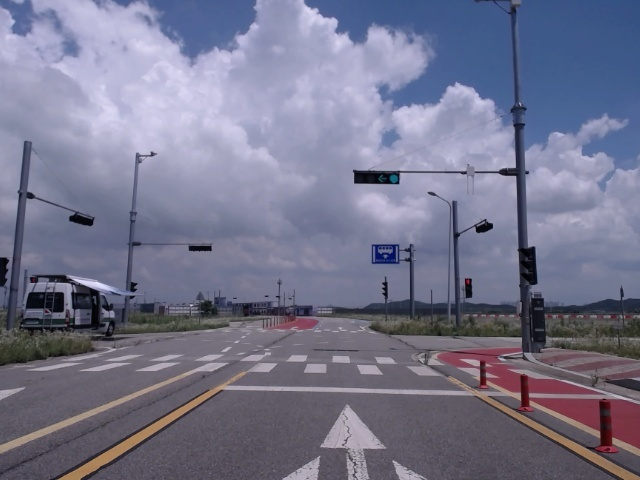all_green_4: (351, 167, 397, 185)
